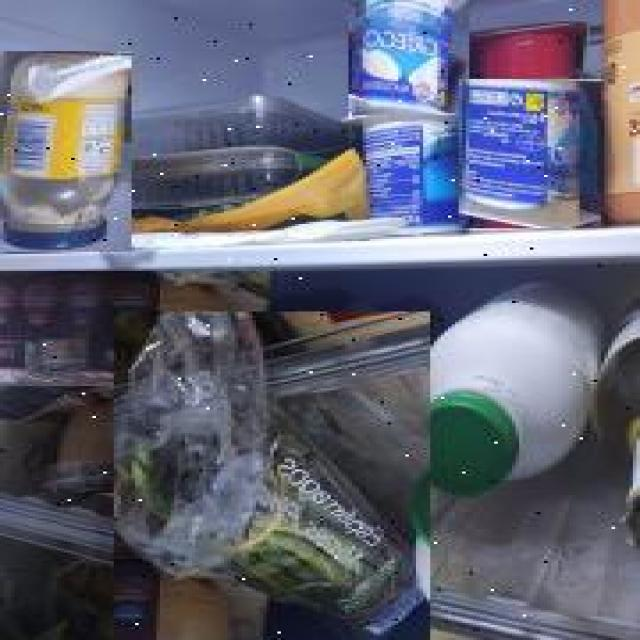asparagus: (114, 311, 430, 640)
humus: (0, 271, 270, 386), (0, 387, 135, 494)
mayonaise: (0, 51, 132, 252)
milk: (409, 278, 611, 500)
yogurt: (459, 80, 601, 229), (345, 102, 469, 237), (348, 0, 469, 115)
